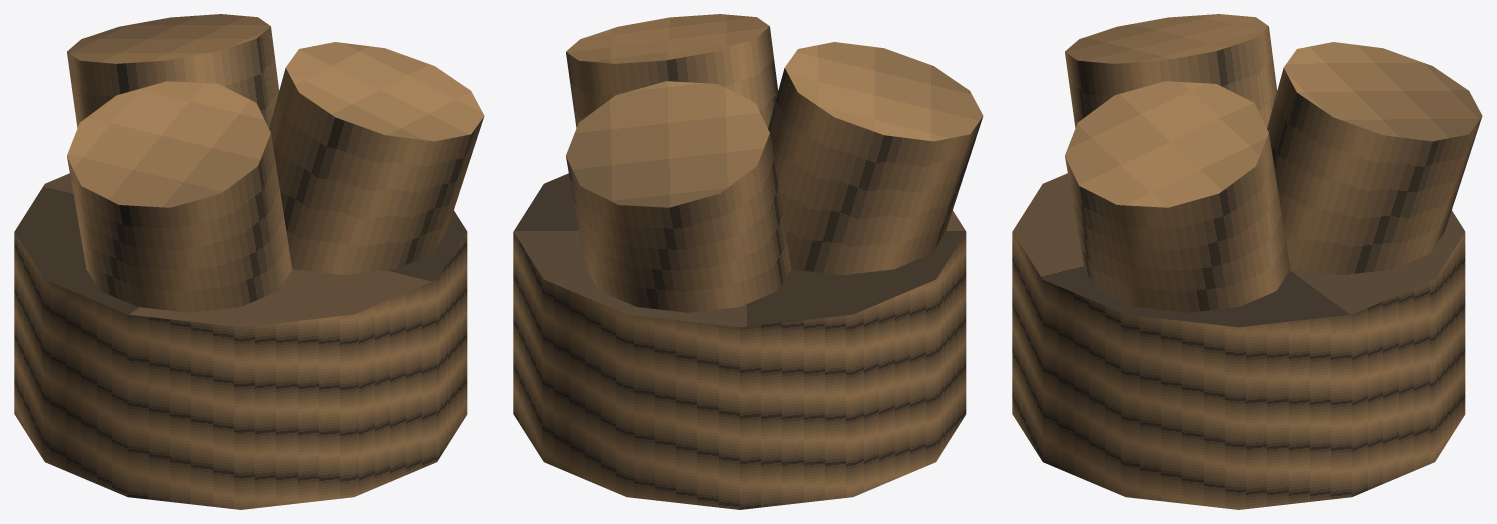
The model's file is rope-endcap-3ply.glb.
3 views of the same model, side by side, from view 1: azimuth 30°, elevation 25°; view 2: azimuth 150°, elevation 25°; view 3: azimuth 270°, elevation 25° (orthographic).
Parts seen in each view (by area): view 1: Cylinder; view 2: Cylinder; view 3: Cylinder.
Boxes of the visible parts, <box> form: Cylinder: <box>14,14,484,509</box>; Cylinder: <box>513,14,983,509</box>; Cylinder: <box>1012,14,1482,509</box>.
Bounding box in the file's own units: 1.1 × 0.929 × 1.14.
1 material, 1 textured.
